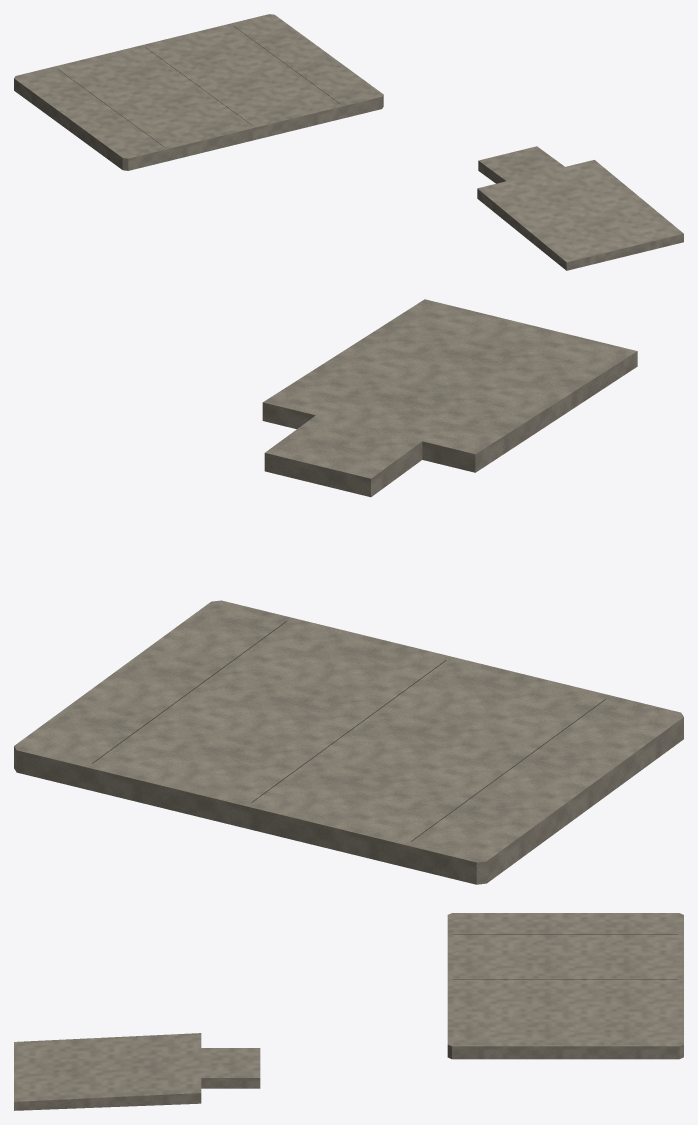
The model's file is SM_Substation_Pad_LOD2.fbx.
3 renders of one model, top to bottom at view 1: azimuth 30°, elevation 25°; view 2: azimuth 150°, elevation 25°; view 3: azimuth 270°, elevation 25°, orthographic. The views are drawn at different scales.
Visible parts, largest first — view 1: SM_Substation_Pad_LOD2; view 2: SM_Substation_Pad_LOD2; view 3: SM_Substation_Pad_LOD2.
Part boxes in pixels (<box>): SM_Substation_Pad_LOD2: <box>14,14,683,270</box>; SM_Substation_Pad_LOD2: <box>14,299,683,884</box>; SM_Substation_Pad_LOD2: <box>14,913,683,1110</box>.
Size of the model in its own units: 10.8 by 17 by 0.502.
